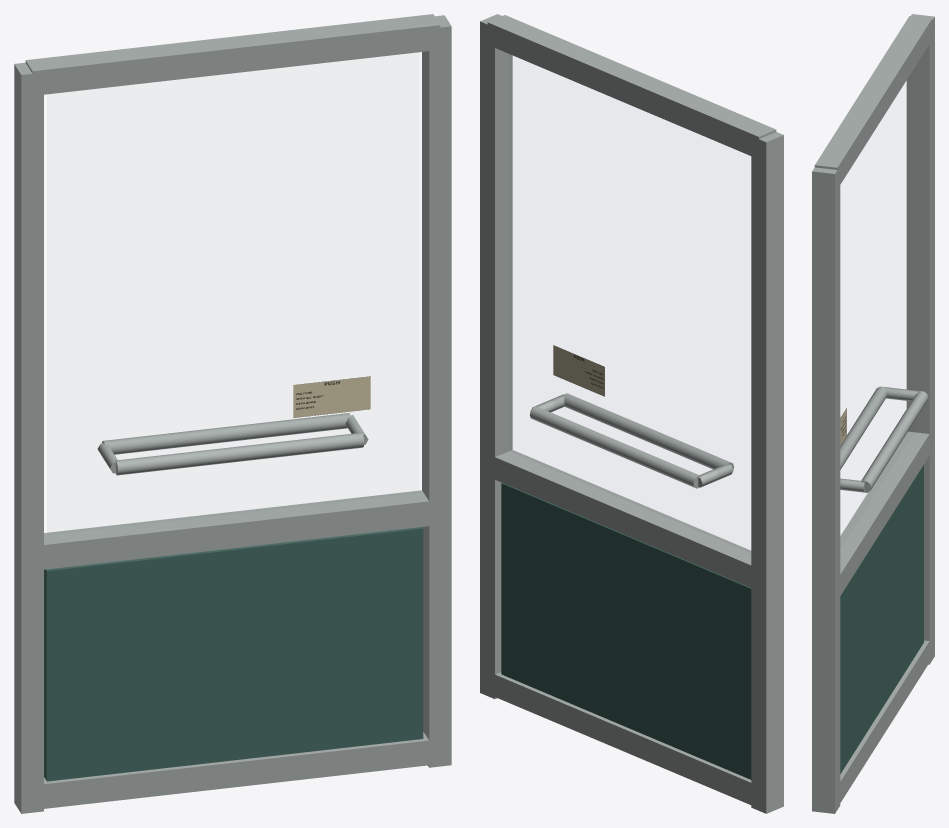
Rendered from SM_Mesa_Door.fbx.
The picture shows the model from 3 angles, left to right: view 1: azimuth 30°, elevation 25°; view 2: azimuth 150°, elevation 25°; view 3: azimuth 270°, elevation 25°; orthographic projection. The views are drawn at different scales.
Parts seen in each view (by area): view 1: SM_Mesa_Door; view 2: SM_Mesa_Door; view 3: SM_Mesa_Door.
Part boxes in pixels (x1,y1,x2,y2): SM_Mesa_Door: (14,14,451,813); SM_Mesa_Door: (480,14,783,813); SM_Mesa_Door: (812,14,934,813).
Bounding box in the file's own units: 1.2 × 0.3892 × 2.25.
